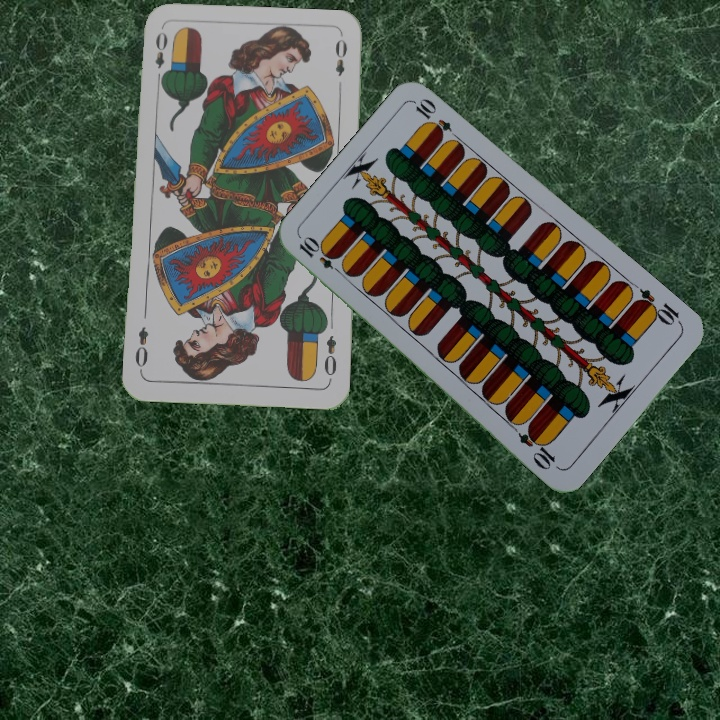E10: (630, 285, 685, 329), (295, 234, 347, 278)
EO: (319, 331, 340, 384), (151, 28, 170, 86)
